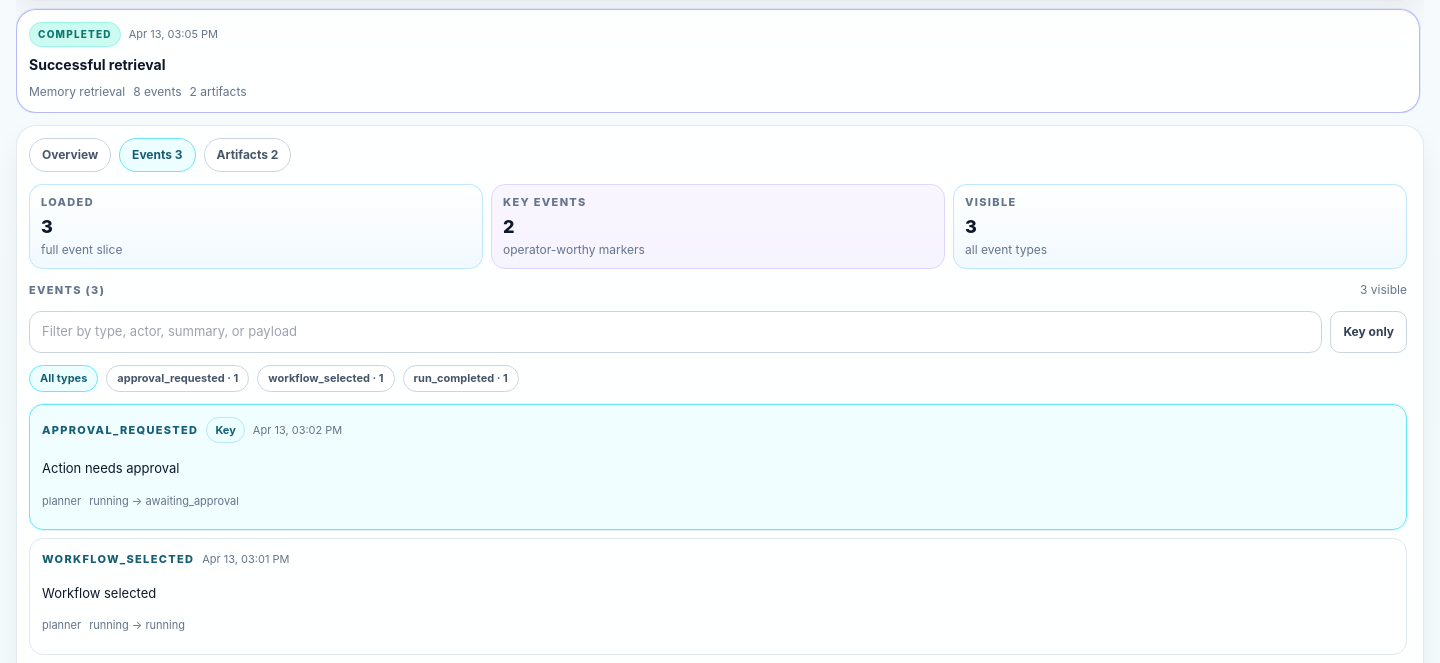
restores the events tab and filters event inspection results
(page scrolled)
Expected: the text "Key events" is shown, [503,195,587,209]
Expected: the button "approval_requested · 1" is shown, [106,365,249,392]
Type "approval" into the field with placeholder "Filter by type, actor, summary, or payload" at (676, 332), box [29,311,1322,353]
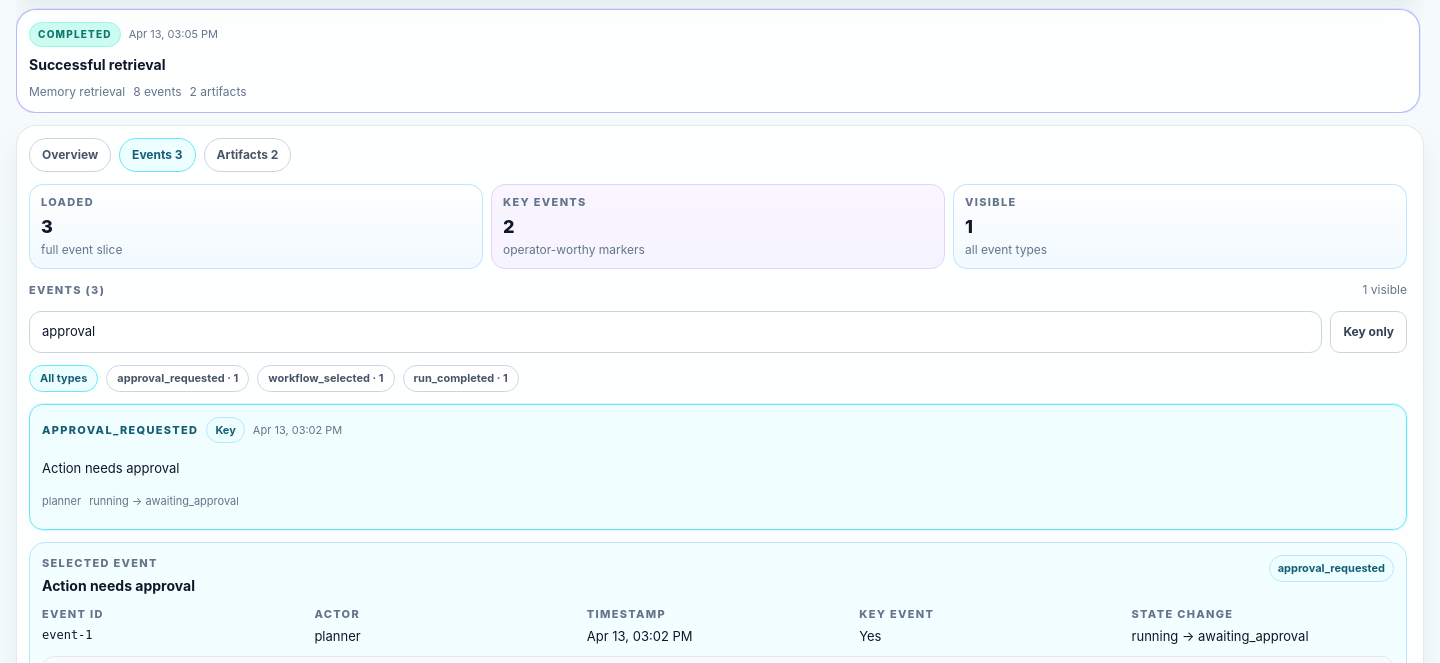
Expected: the 1st text "Action needs approval" is shown, [42,459,179,479]
Result: the button "Workflow selected" is gone
